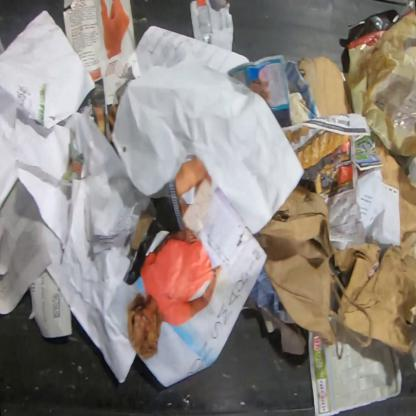cardboard: (333, 129, 415, 356), (296, 55, 353, 118)
